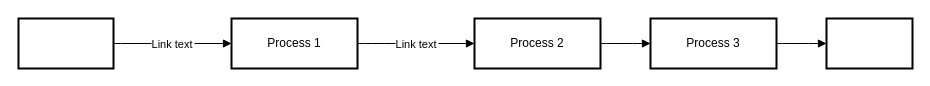
The diagram is 930 pixels wide and 86 high, and some of its shapes have lost their labels. The shapes that lost their labels are listed below. From the top down, each one's centre as x and y in pixels, then its label:
At point (65, 43): "Start".
At point (869, 43): "End".
